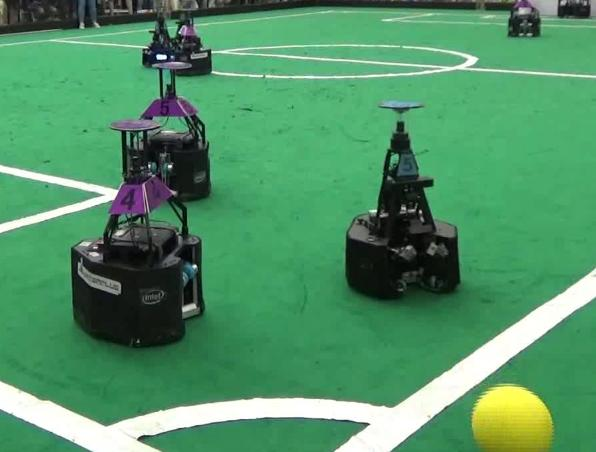robot: (66, 117, 208, 349), (344, 100, 464, 302), (117, 59, 216, 203), (164, 7, 214, 78)
